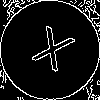X: (25, 25, 76, 81)
